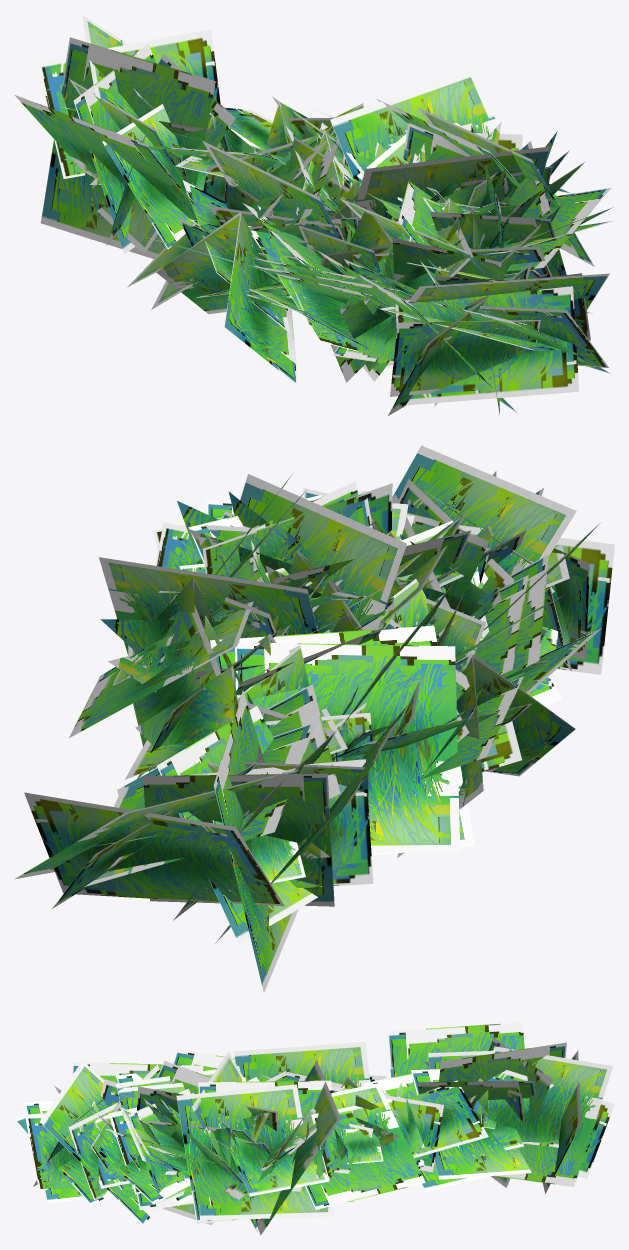
The model's file is FloatgrassPodVeryLarge.fbx.
3 views of the same model, one above another, from view 1: azimuth 30°, elevation 25°; view 2: azimuth 150°, elevation 25°; view 3: azimuth 270°, elevation 25° (orthographic). The views are drawn at different scales.
Parts seen in each view (by area): view 1: Cube.003; view 2: Cube.003; view 3: Cube.003.
Part boxes in pixels (box(x1,y1,x2,y2)): Cube.003: box(14, 14, 613, 415); Cube.003: box(14, 445, 614, 992); Cube.003: box(14, 1022, 614, 1235).
Bounding box in the file's own units: 2147 × 1103 × 4067.
